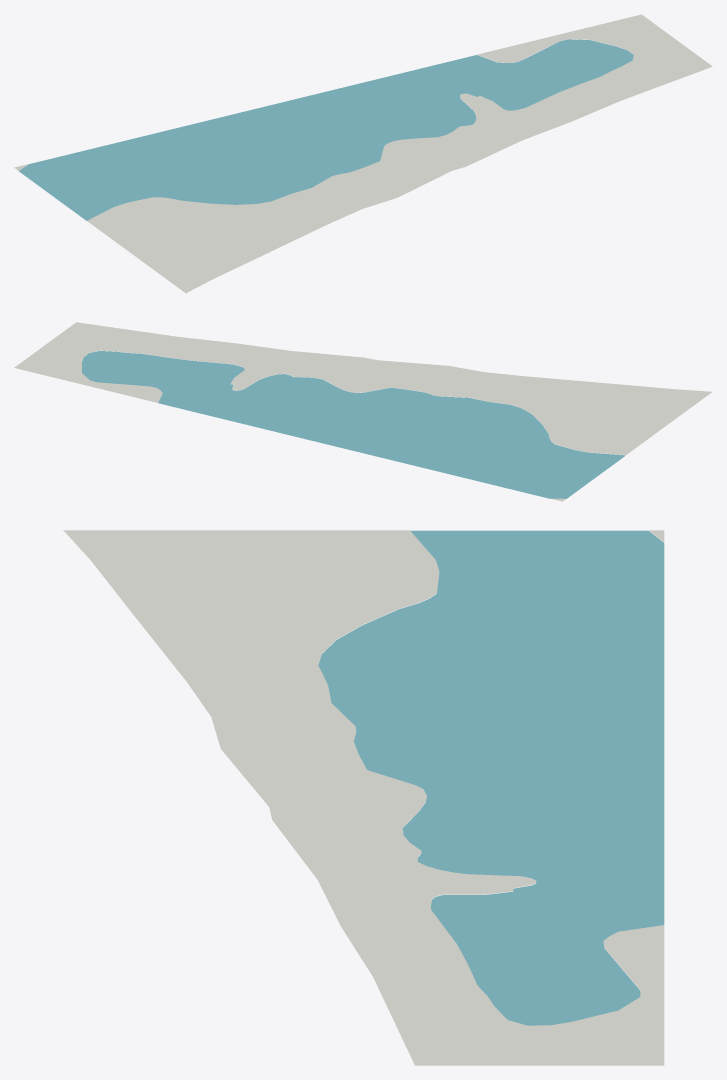
3 views of the same model, one above another, from view 1: azimuth 30°, elevation 25°; view 2: azimuth 150°, elevation 25°; view 3: azimuth 270°, elevation 25° (orthographic). The views are drawn at different scales.
Visible parts, largest first — view 1: city; view 2: city; view 3: city.
Boxes of the visible parts, left/top/right/bottom form: city: left=14, top=14, right=712, bottom=293; city: left=14, top=322, right=712, bottom=501; city: left=63, top=530, right=664, bottom=1065.
Bounding box in the file's own units: 500 × 0.18 × 237.
